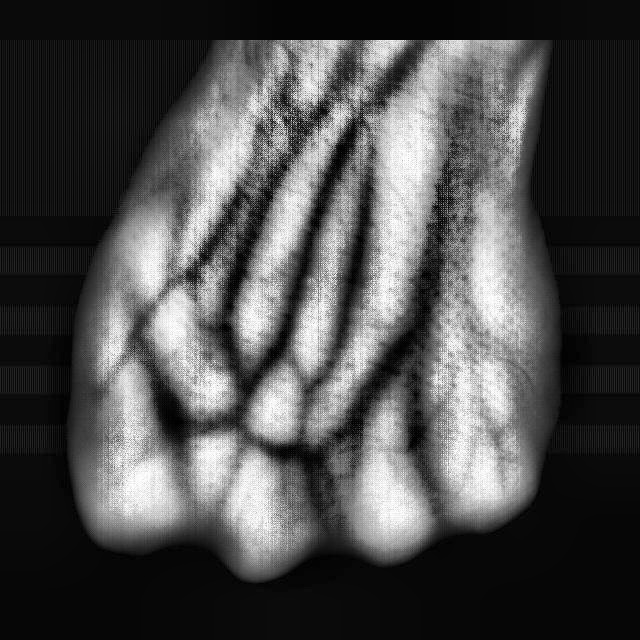Vein: (275, 149, 351, 335)
